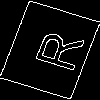R: (25, 25, 85, 74)
